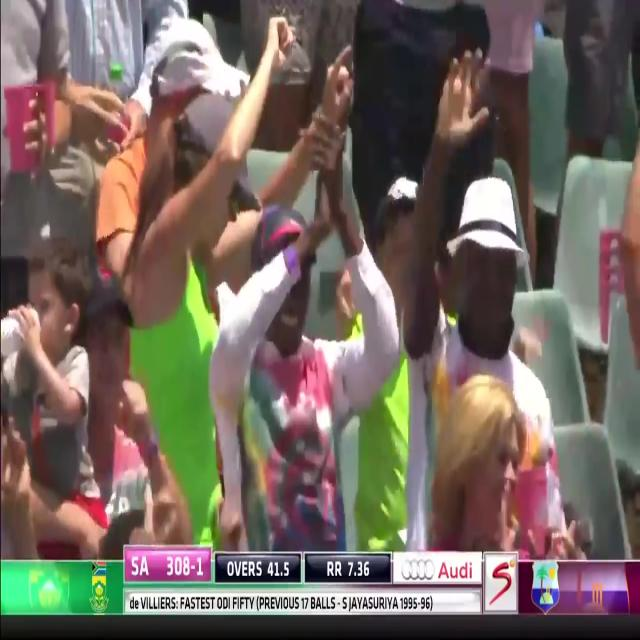Ball: (330, 1, 584, 555)
